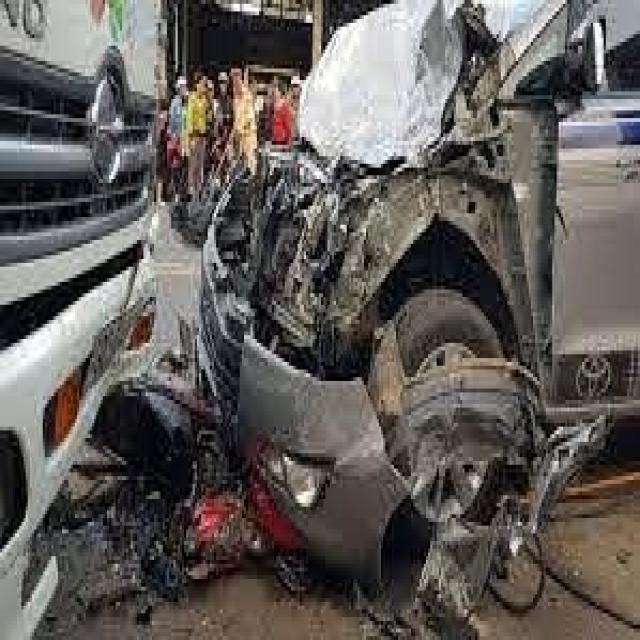accident: (58, 4, 640, 640)
